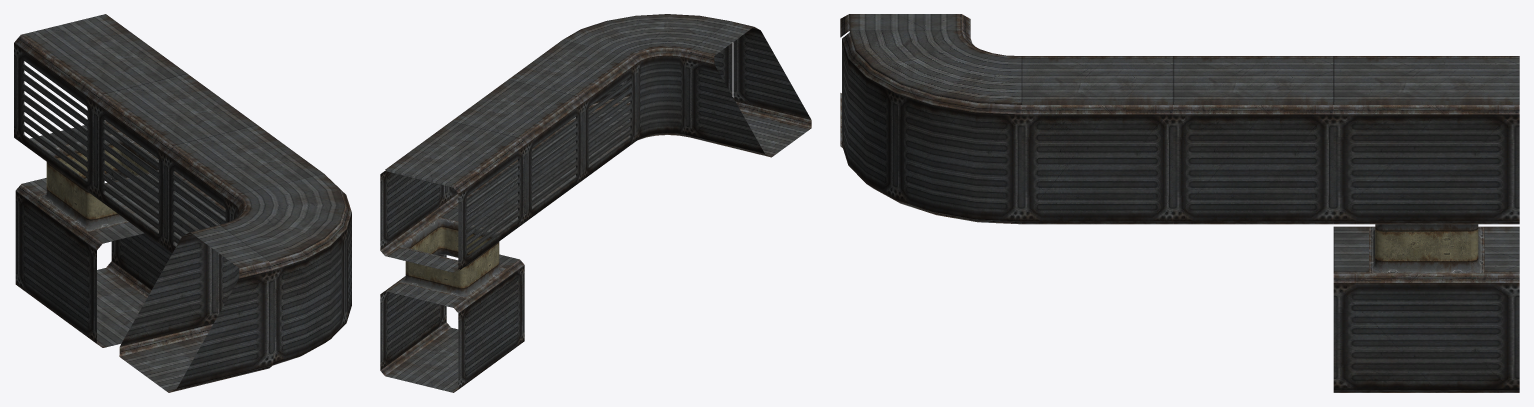
The model's file is trainstation_maintenance_tunnels_01_04_entrance.dae.
The picture shows the model from 3 angles, left to right: view 1: azimuth 30°, elevation 25°; view 2: azimuth 150°, elevation 25°; view 3: azimuth 270°, elevation 25°; orthographic projection. The views are drawn at different scales.
Visible parts, largest first — view 1: special_01_04_tunnel_entrance; view 2: special_01_04_tunnel_entrance; view 3: special_01_04_tunnel_entrance.
Boxes of the visible parts, bbox=[...] form: special_01_04_tunnel_entrance: bbox=[14, 14, 351, 392]; special_01_04_tunnel_entrance: bbox=[380, 14, 811, 392]; special_01_04_tunnel_entrance: bbox=[840, 14, 1519, 392].
Bounding box in the file's own units: 3.35 × 3.43 × 7.3.
